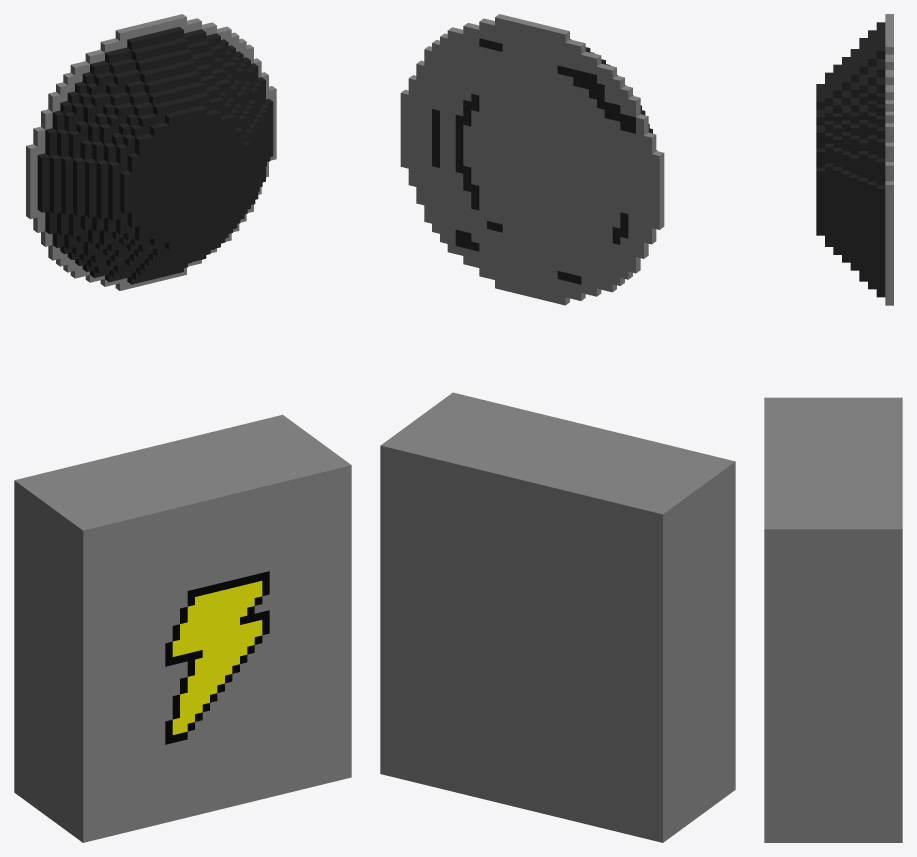
The model's file is powerboxblack.obj.
3 renders of one model, left to right at view 1: azimuth 30°, elevation 25°; view 2: azimuth 150°, elevation 25°; view 3: azimuth 270°, elevation 25°, orthographic. The views are drawn at different scales.
Size of the model in its own units: 36 by 95 by 16.
1 material, 1 textured.
